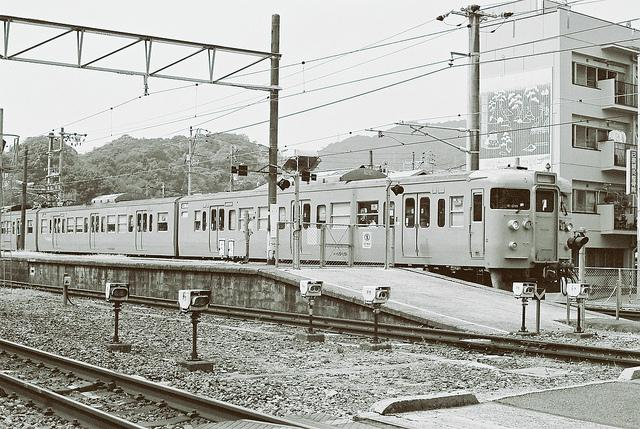Train: (2, 169, 567, 280)
